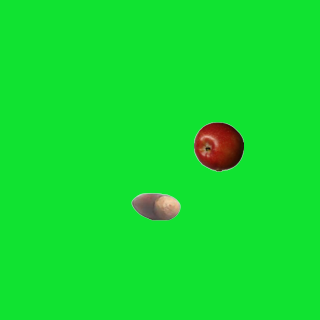Apple Braeburn: (193, 121, 243, 171)
Hazelnut: (130, 181, 180, 231)
